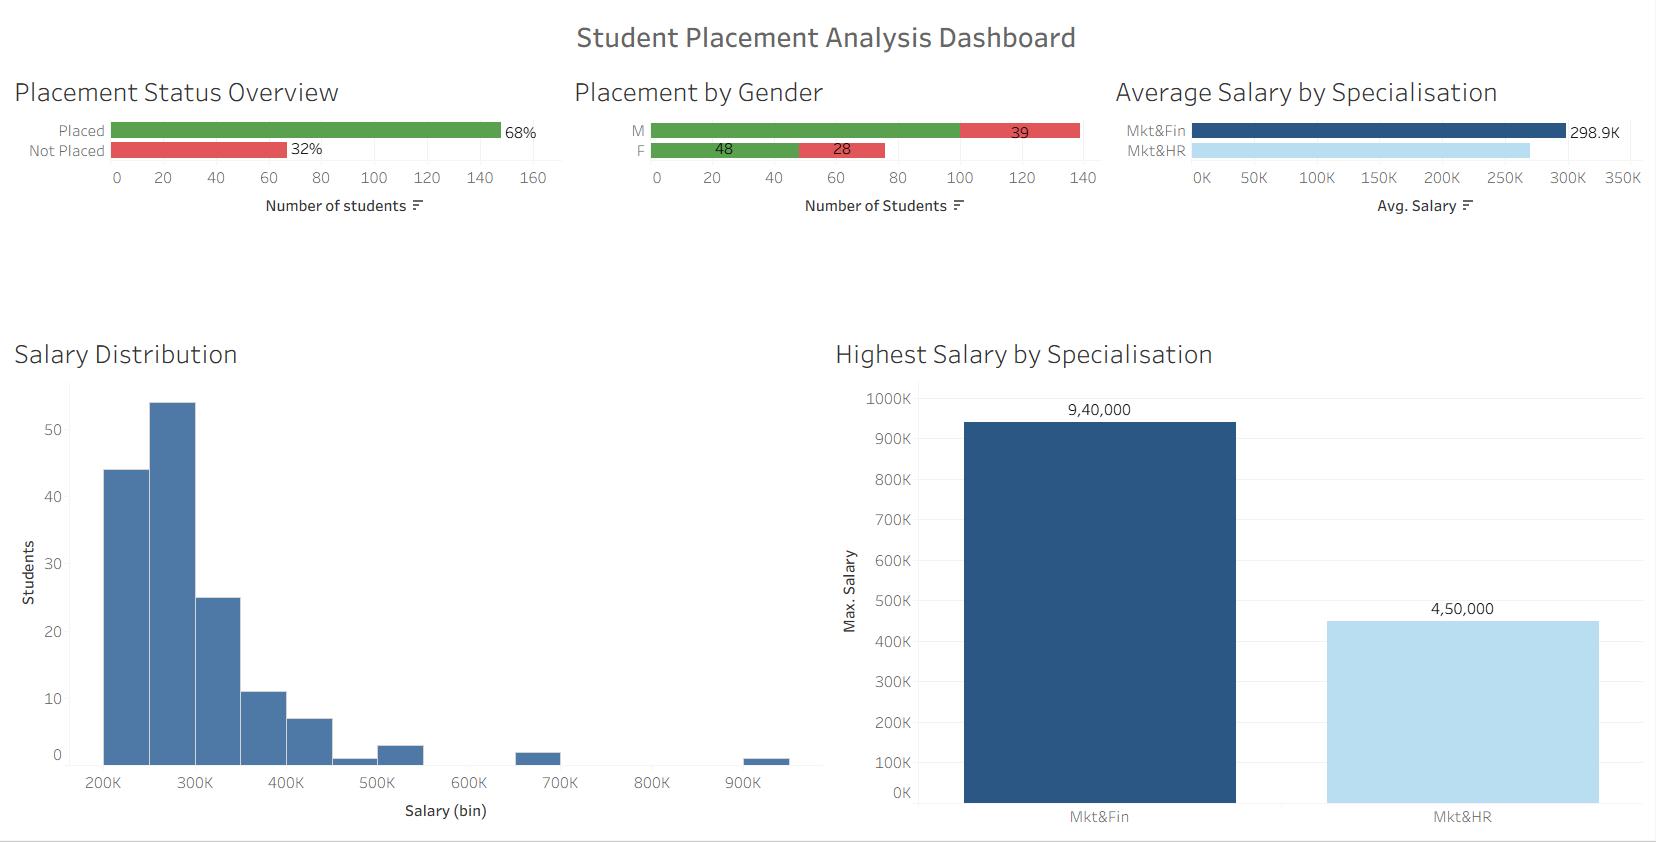

The dashboard page shown, as its layout file describes it:
{"tool":"tableau","page":{"name":"Student_Placement_Analysis","canvas":[1000,1000],"units":"permille","ordinal":0},"visuals":[{"type":"text","box":[4.8,9.5,990.3,70.2]},{"type":"worksheet","title":"Placement Status Overview","mark":"Automatic","rows":["status"],"cols":["sl_no"],"box":[4.8,79.7,338.2,311.5]},{"type":"worksheet","title":"Placement by Gender","mark":"Bar","rows":["gender"],"cols":["sl_no"],"box":[343,79.7,326.1,311.5]},{"type":"worksheet","title":"Average Salary by Specialisation","mark":"Automatic","rows":["specialisation"],"cols":["salary"],"box":[669.1,79.7,326.1,311.5]},{"type":"worksheet","title":"Salary Distribution","mark":"Automatic","rows":["sl_no"],"cols":["Salary (bin)"],"box":[4.8,391.2,495.2,599.3]},{"type":"worksheet","title":"Highest Salary by Specialisation","mark":"Bar","rows":["salary"],"cols":["specialisation"],"box":[500,391.2,495.2,599.3]}]}

Visuals, with their boxes on the dashboard's canvas, which has no fixed pixel size, in thousandths of its width and height (x1, y1, x2, y2). These are canvas units, not pixel positions in the 1656x842 screenshot, which may show the page scaled, cropped or inside an application window:
text: 5, 10, 995, 80
"Placement Status Overview" worksheet: 5, 80, 343, 391
"Placement by Gender" worksheet (Bar marks): 343, 80, 669, 391
"Average Salary by Specialisation" worksheet: 669, 80, 995, 391
"Salary Distribution" worksheet: 5, 391, 500, 990
"Highest Salary by Specialisation" worksheet (Bar marks): 500, 391, 995, 990
